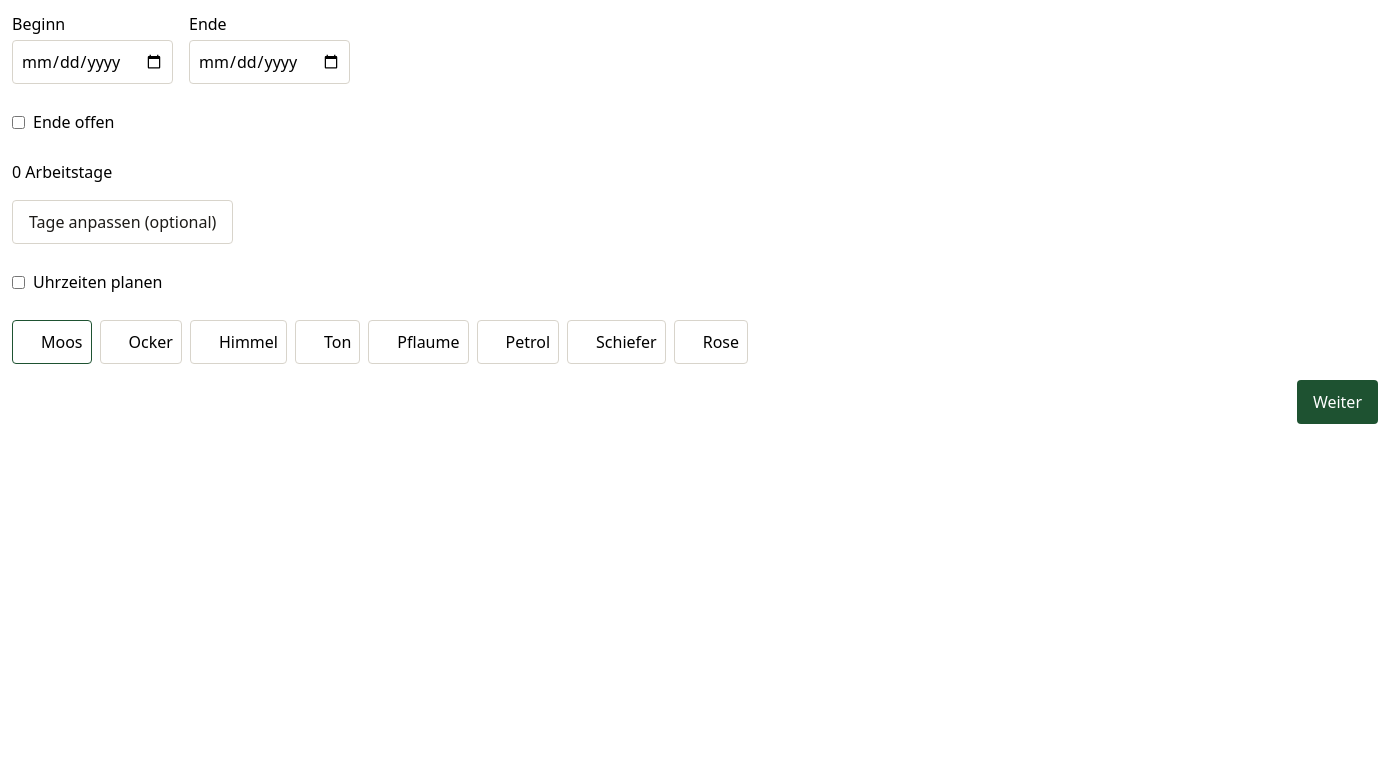
Test: StepPeriod › senkt die Zahl auf 9, wenn ein Werktag abgewaehlt wird
Type "2026-09-07" into the date field labelled "Beginn" at x=92, y=62, box [12, 40, 173, 84]
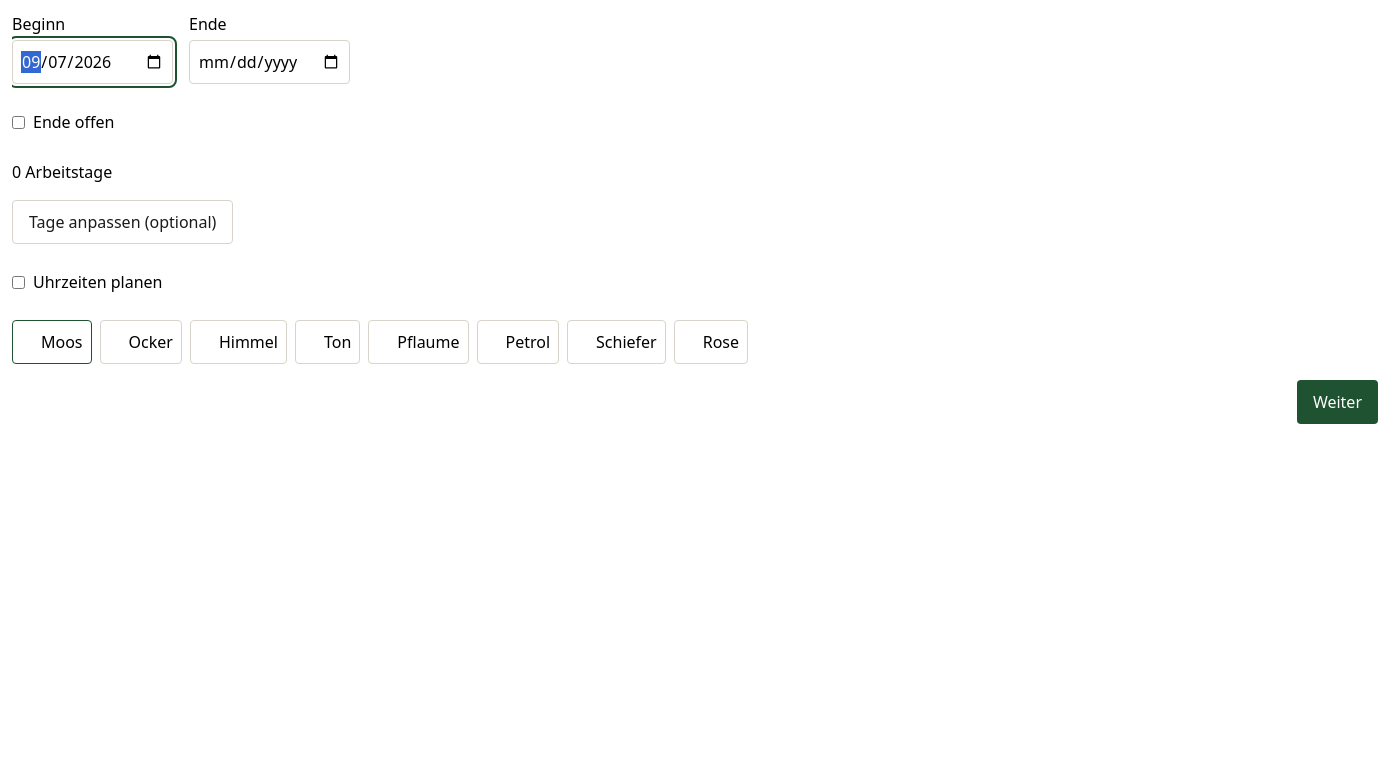
Type "2026-09-18" into the date field labelled "Ende" at x=270, y=62, box [189, 40, 350, 84]
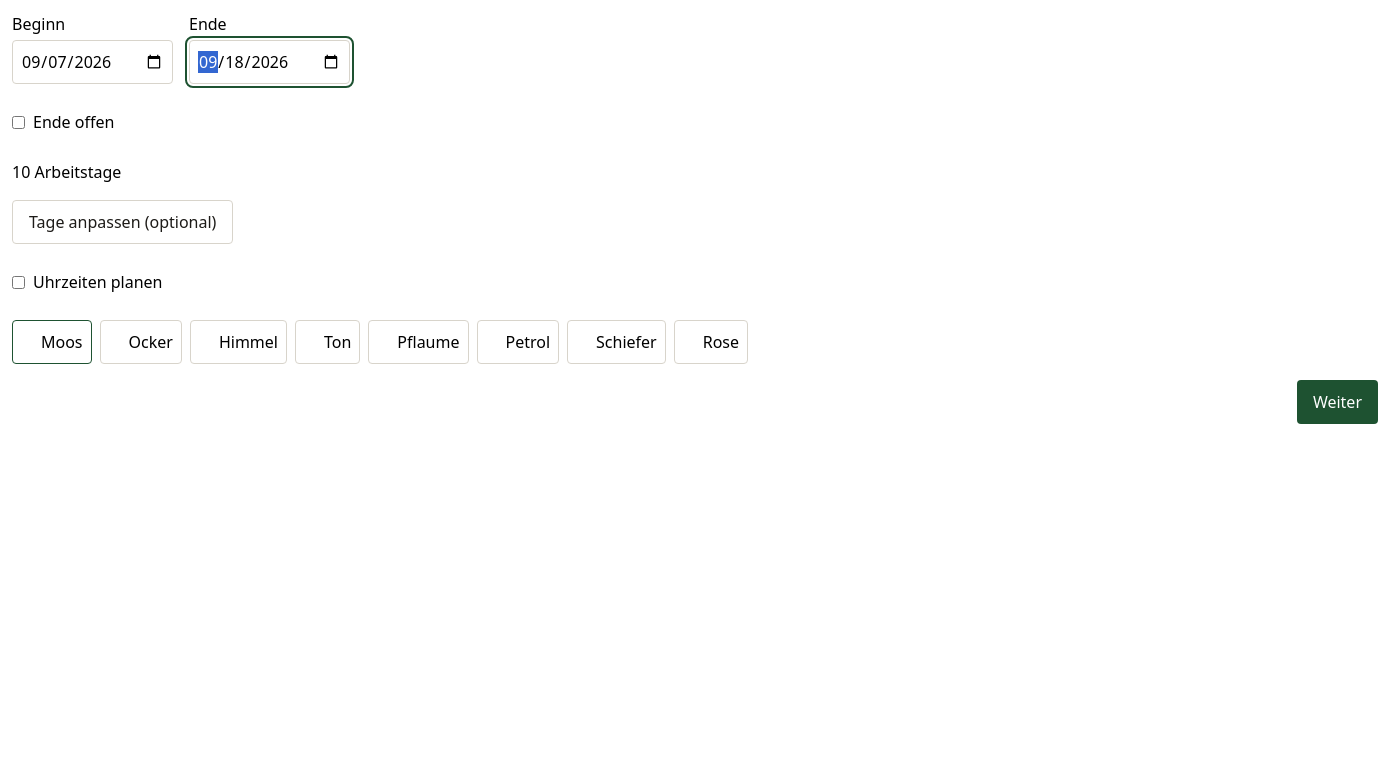
Click the button "Tage anpassen (optional)" at x=123, y=222, box [12, 200, 233, 244]
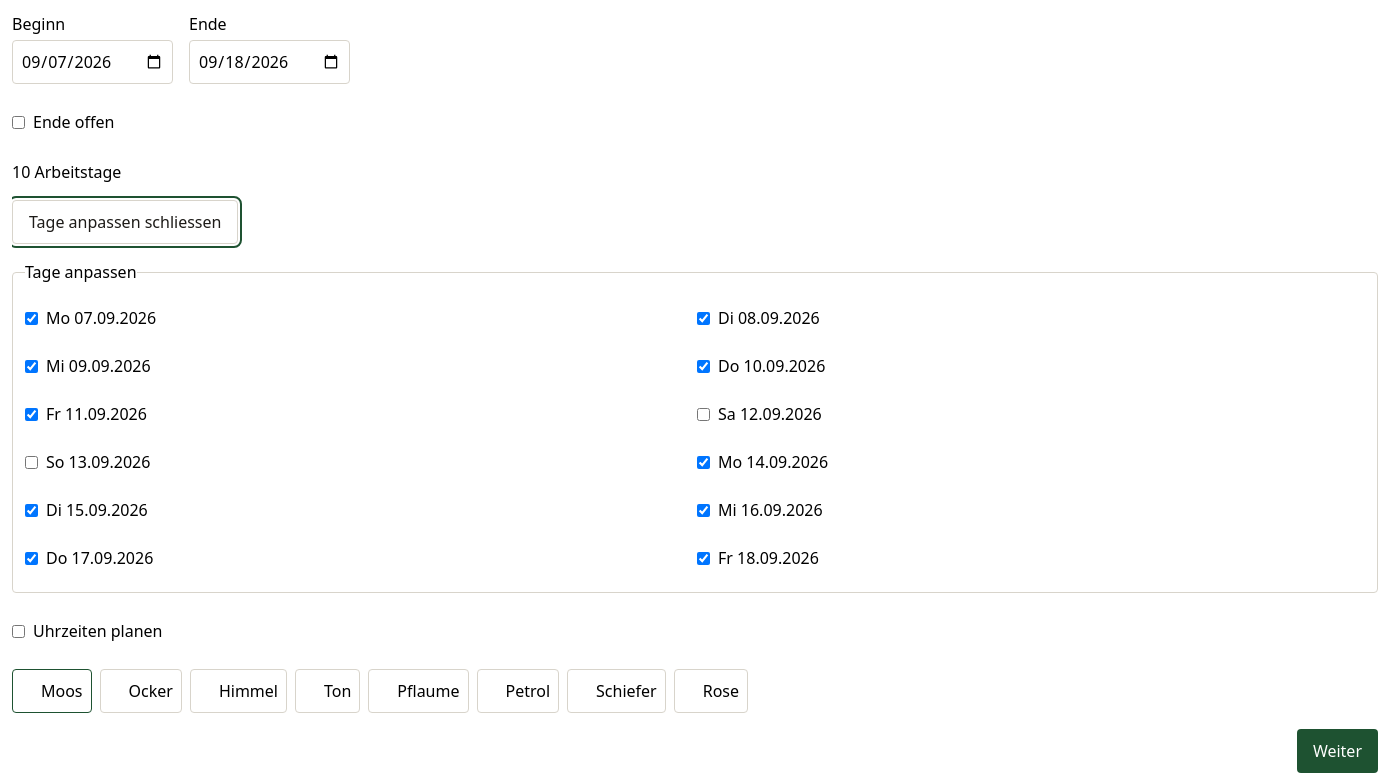
Click the checkbox labelled "Mi 09.09.2026" at x=32, y=366, box [25, 360, 38, 372]
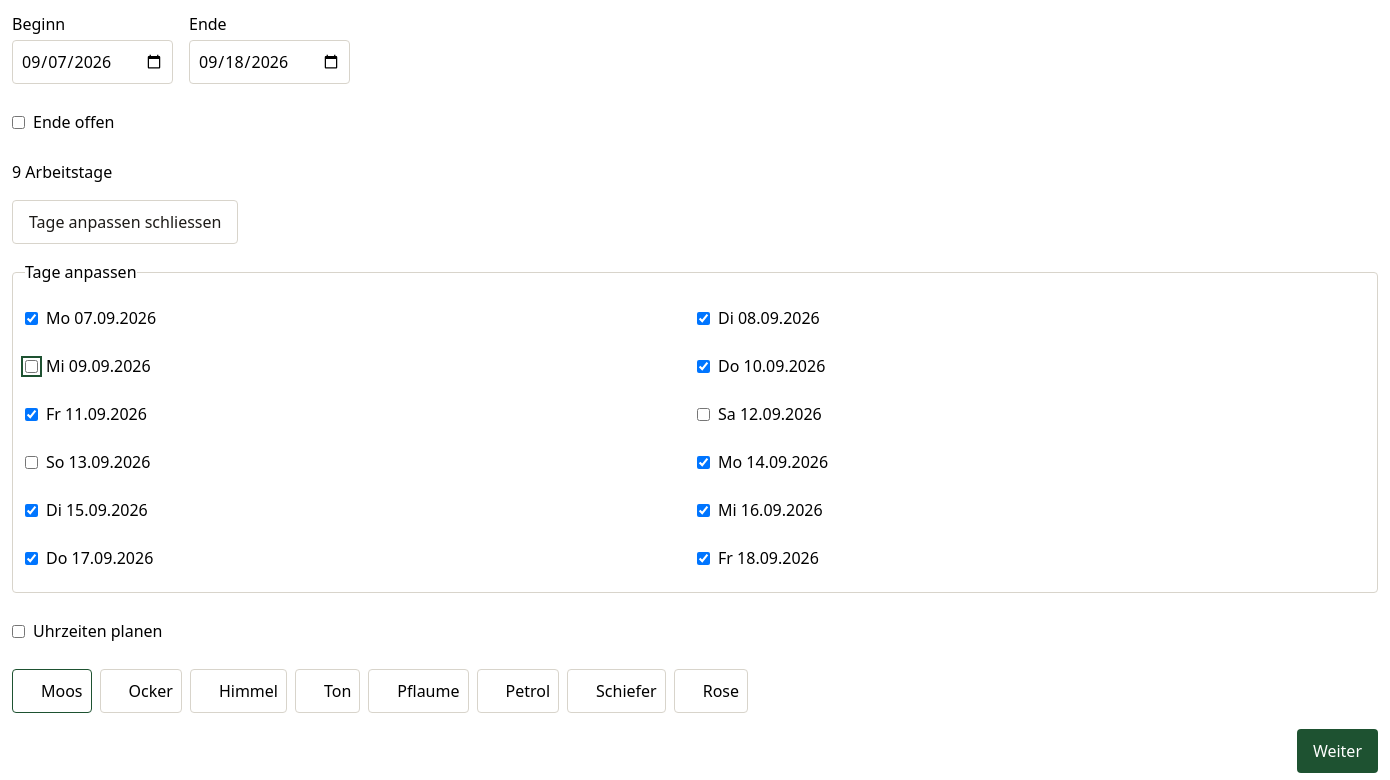
Expected: the text with test id "arbeitstage" reads "9 Arbeitstage", [12, 161, 112, 183]
